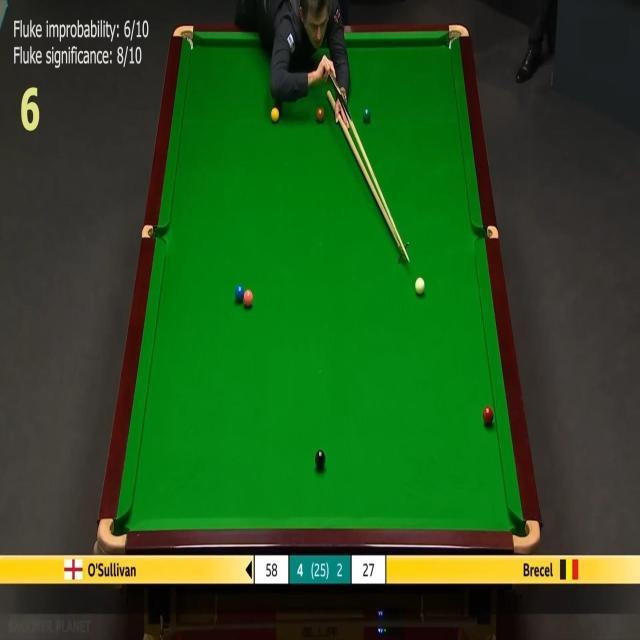Ball: (314, 450, 326, 468), (415, 276, 425, 294), (483, 406, 493, 424), (234, 284, 244, 301), (243, 290, 253, 306), (270, 106, 280, 122), (362, 108, 370, 122), (316, 108, 324, 121)
